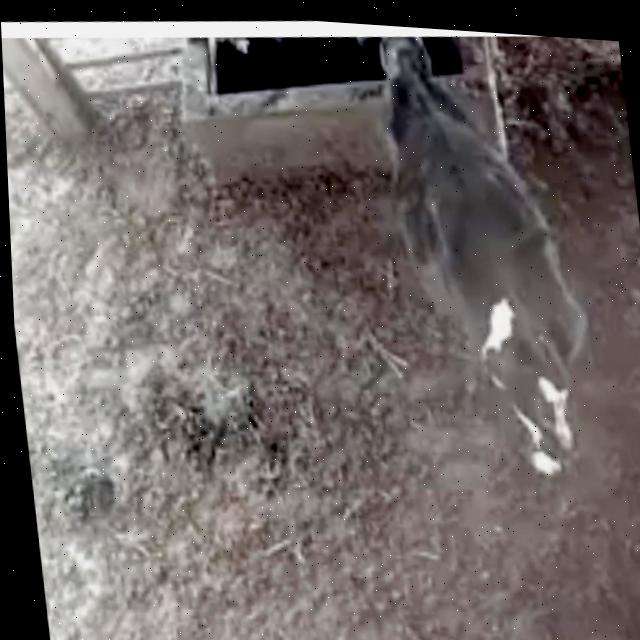drink: (326, 25, 486, 138)
